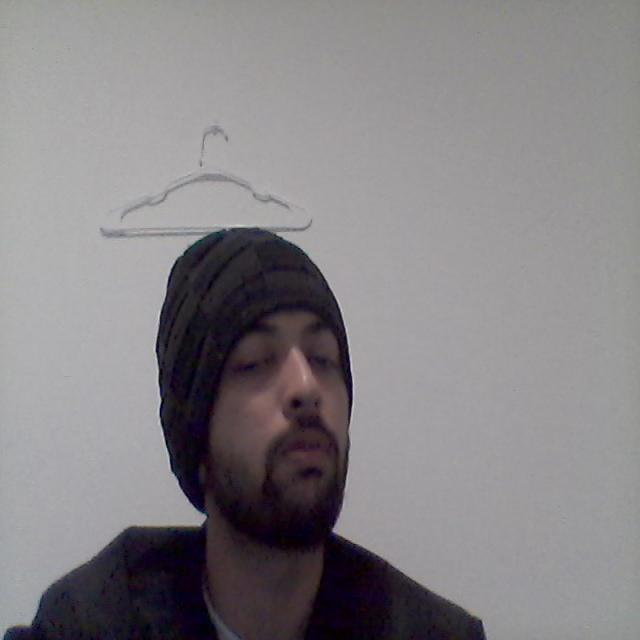cap: (126, 230, 366, 493)
